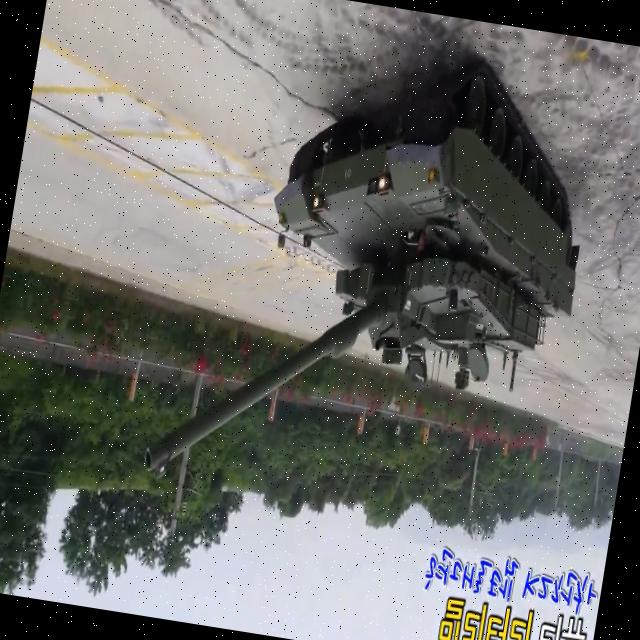korea tank: (138, 20, 610, 536)
